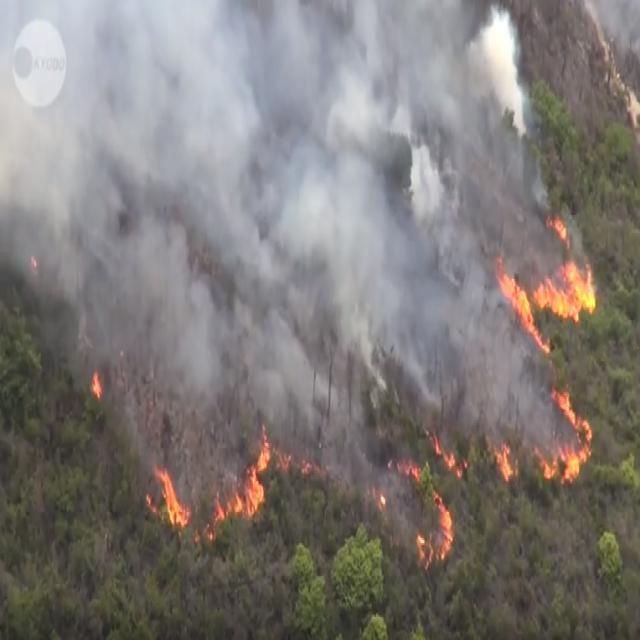Fire: (151, 427, 513, 566), (534, 204, 594, 486), (497, 252, 531, 330), (90, 370, 102, 400)
Smoke: (0, 0, 527, 225)
